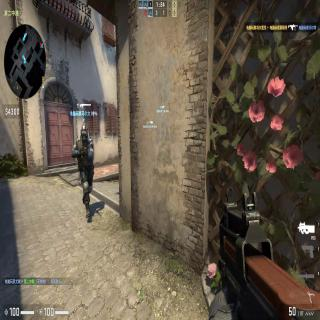CT-Body: (71, 126, 95, 219)
CT-Head: (80, 126, 88, 142)
